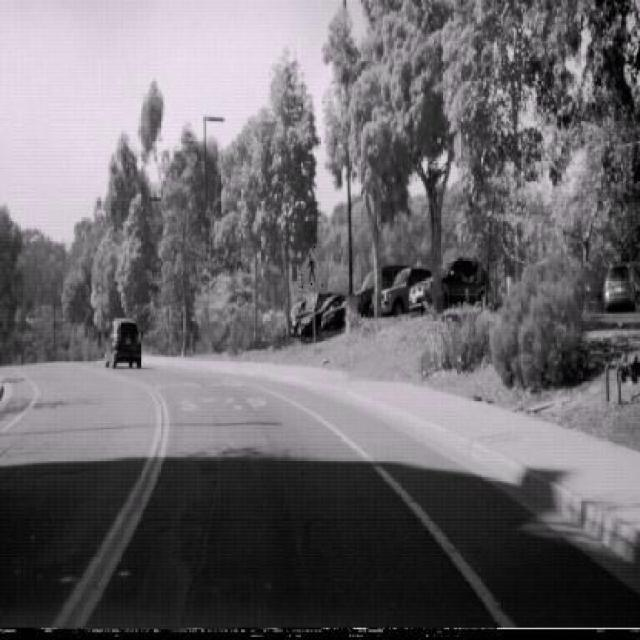pedestrianCrossing: (302, 243, 326, 292)
